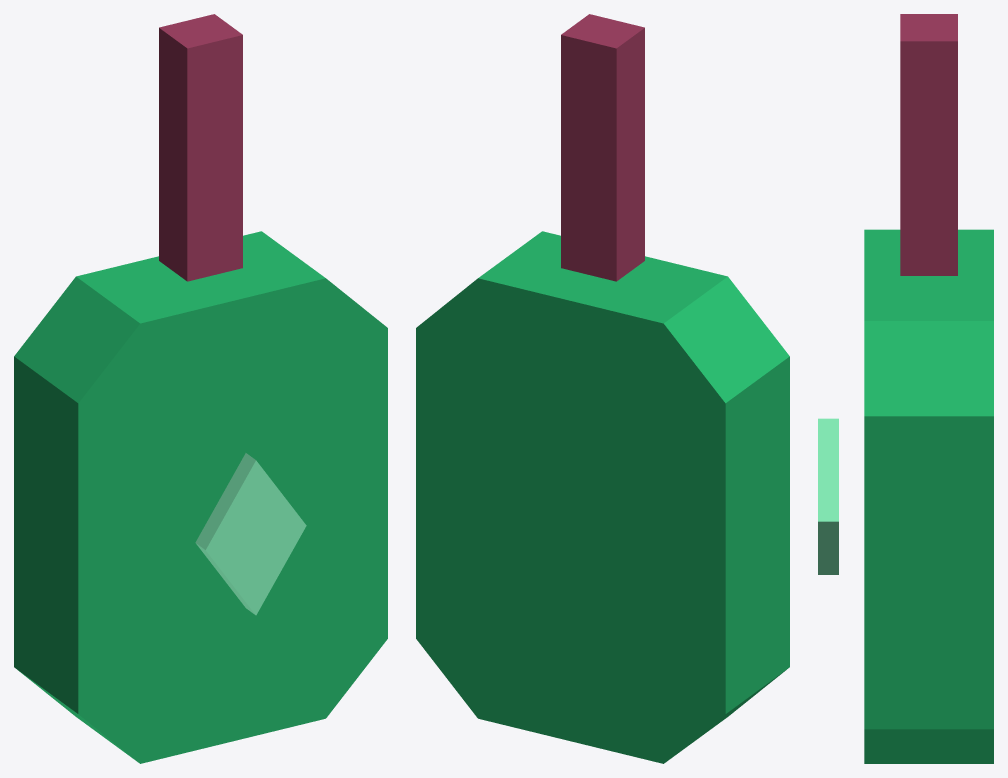
Rendered from jade_tablet_pendant.obj.
3 renders of one model, left to right at view 1: azimuth 30°, elevation 25°; view 2: azimuth 150°, elevation 25°; view 3: azimuth 270°, elevation 25°, orthographic.
Visible parts, largest first — view 1: fan_tablet, fan_tablet_edge, tablet_cord, tablet_cord_edge, tablet_glint, tablet_glint_edge; view 2: fan_tablet, fan_tablet_edge, tablet_cord, tablet_cord_edge; view 3: fan_tablet_edge, tablet_cord_edge, tablet_glint_edge.
Part boxes in pixels (x1=…): fan_tablet: x1=78, y1=278, x2=387, y2=763; fan_tablet_edge: x1=14, y1=231, x2=325, y2=761; tablet_cord: x1=187, y1=35, x2=242, y2=281; tablet_cord_edge: x1=159, y1=14, x2=242, y2=280; tablet_glint: x1=205, y1=460, x2=306, y2=615; tablet_glint_edge: x1=195, y1=453, x2=255, y2=614; fan_tablet: x1=416, y1=278, x2=725, y2=763; fan_tablet_edge: x1=478, y1=231, x2=789, y2=761; tablet_cord: x1=561, y1=35, x2=616, y2=281; tablet_cord_edge: x1=561, y1=14, x2=644, y2=280; fan_tablet_edge: x1=864, y1=229, x2=993, y2=763; tablet_cord_edge: x1=900, y1=14, x2=957, y2=275; tablet_glint_edge: x1=818, y1=418, x2=838, y2=574.
Size of the model in its own units: 0.25 by 0.53 by 0.1222.
